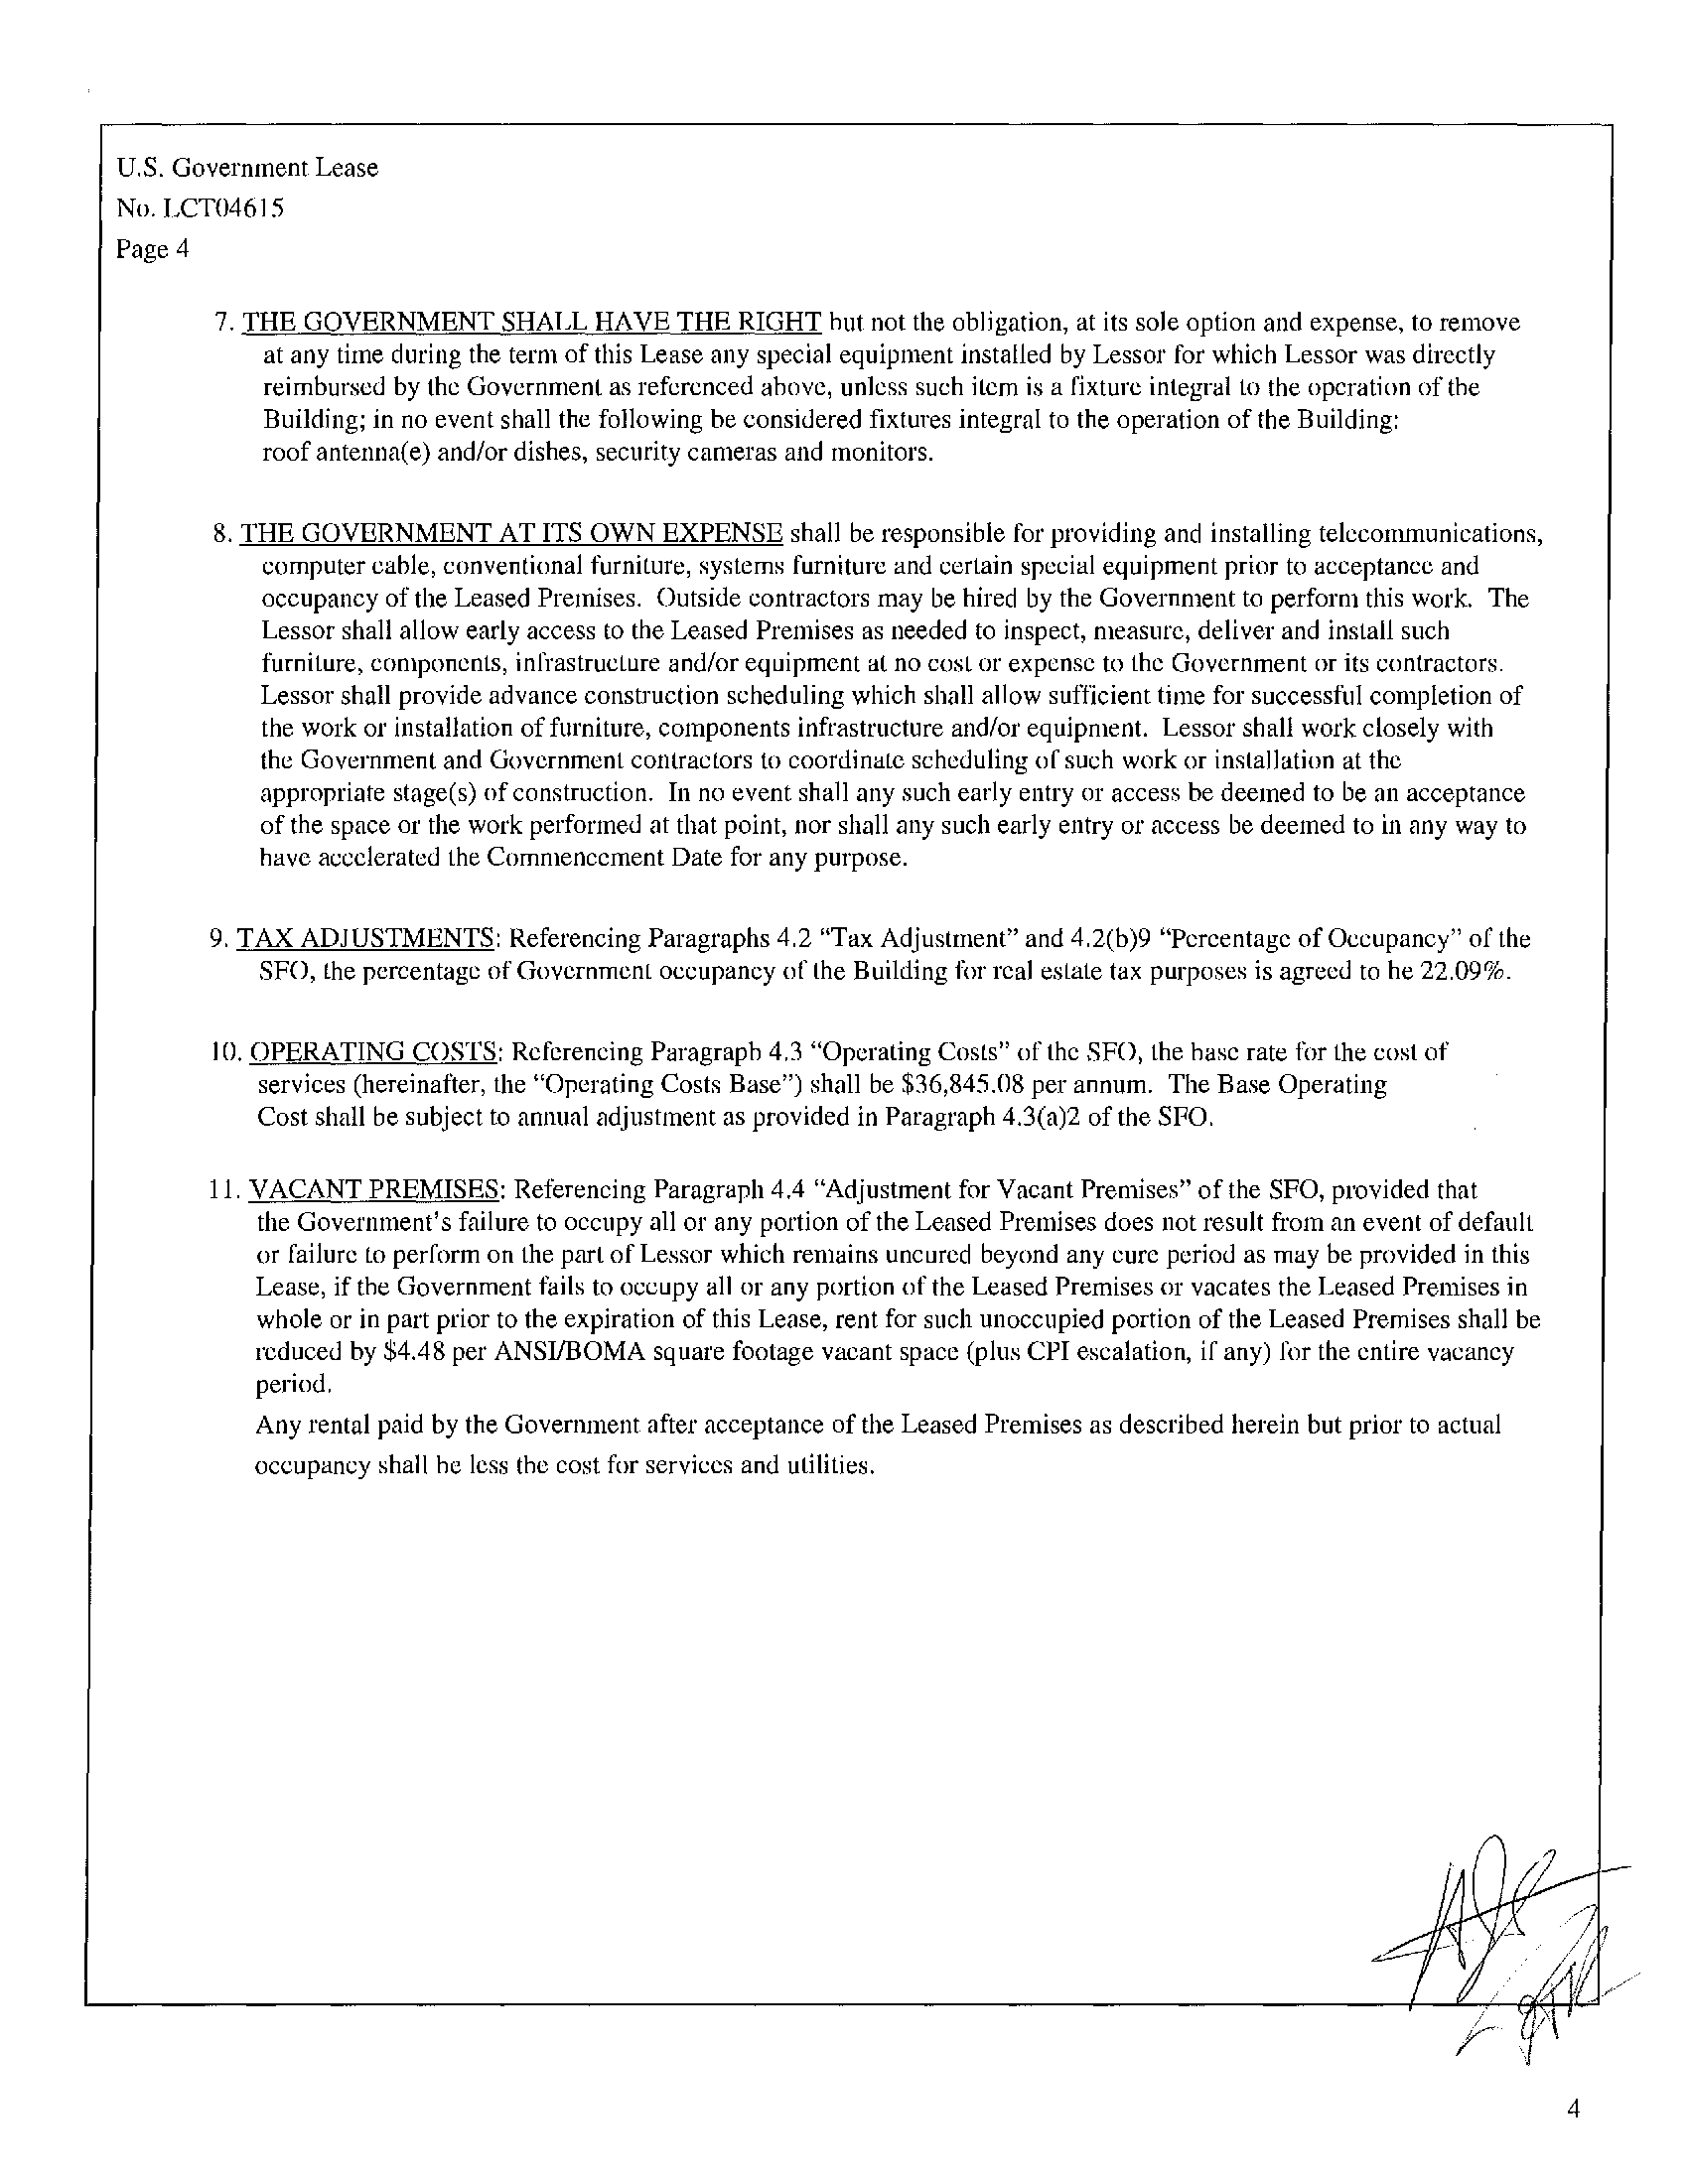handwritten: (1367, 1810, 1629, 2058)
